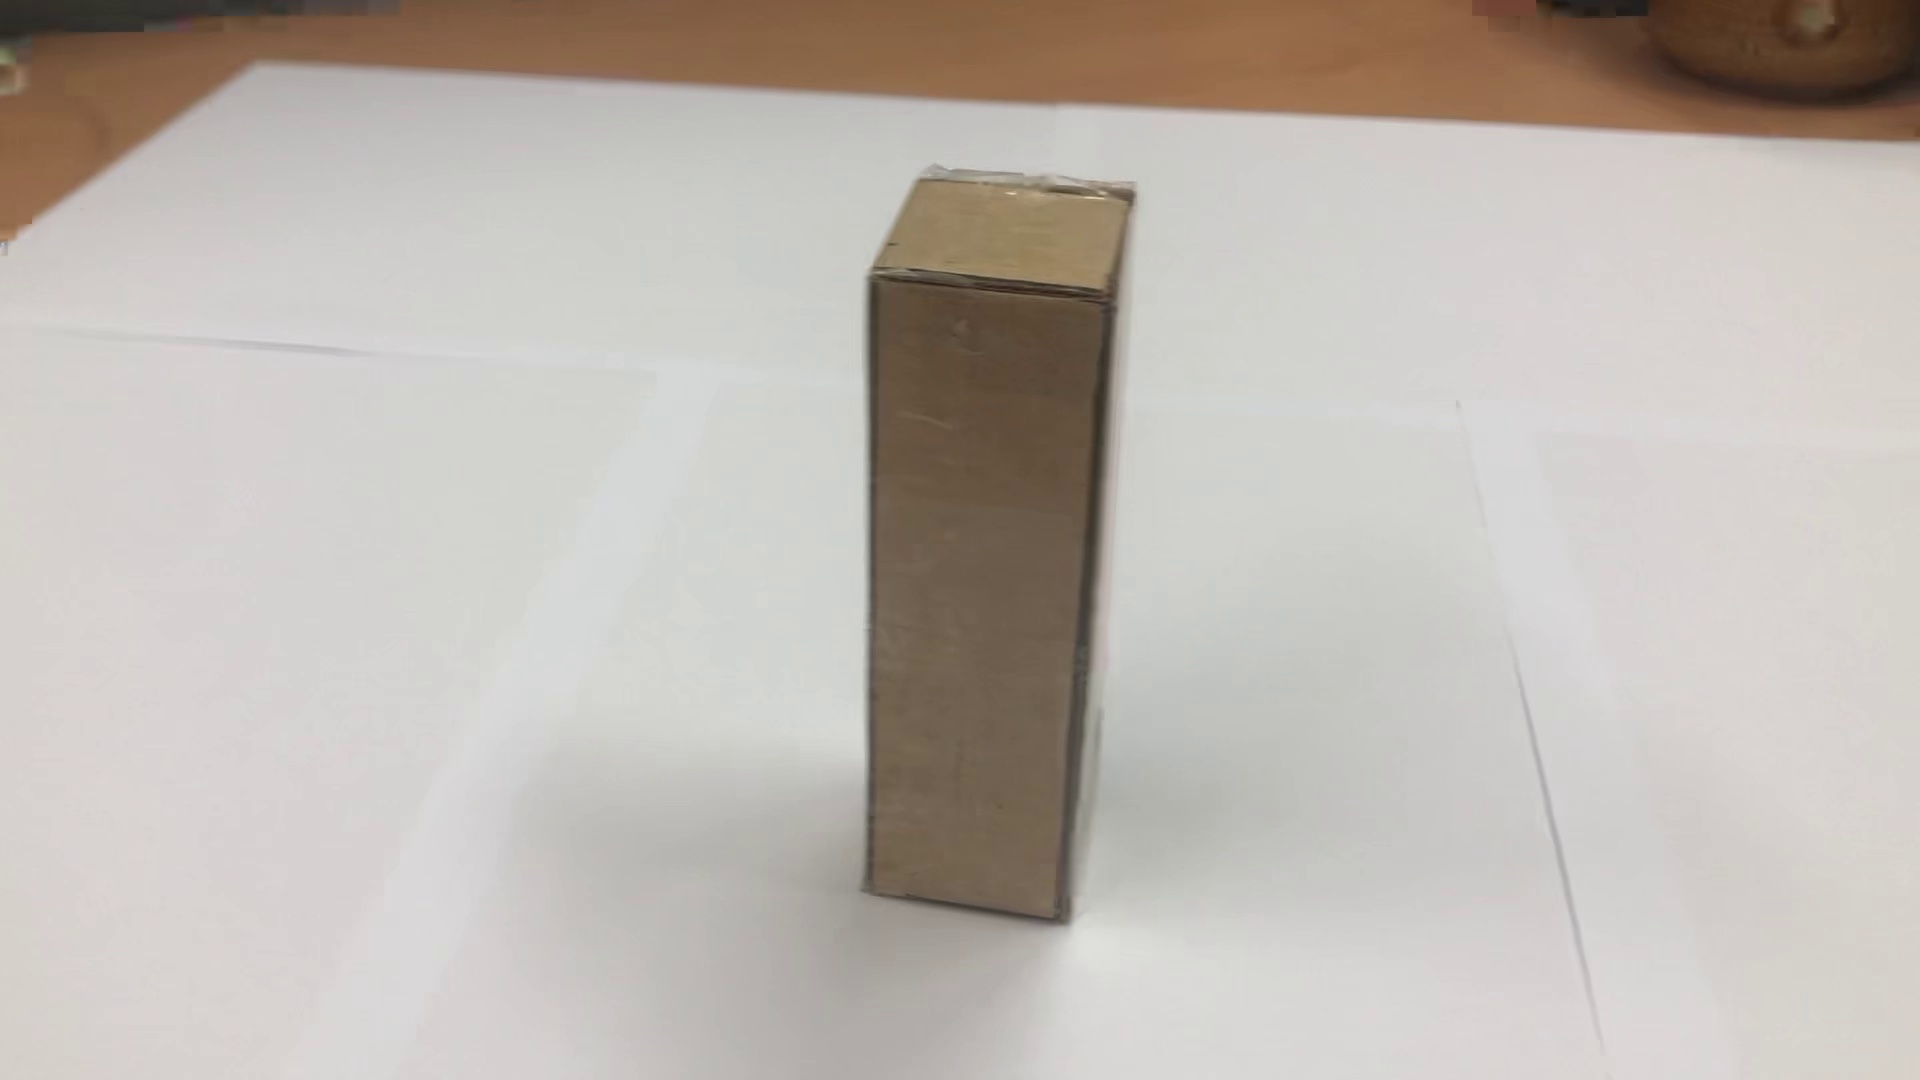box: (822, 156, 1163, 943)
